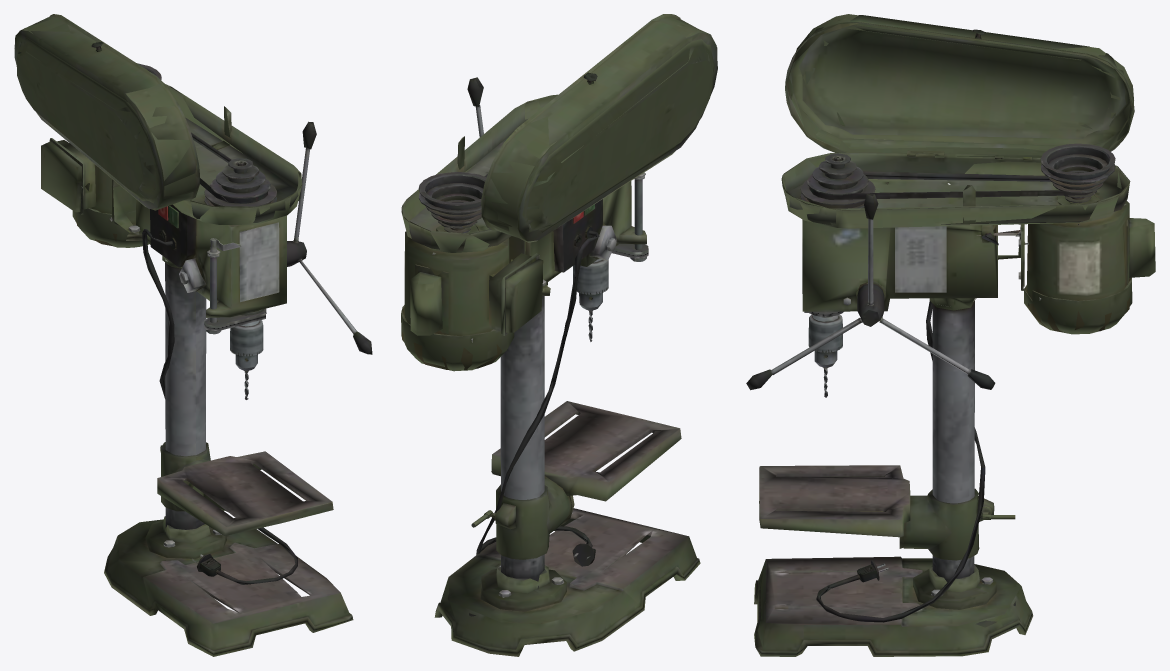
Rendered from drill_press_01.fc34c469.glb.
3 renders of one model, left to right at view 1: azimuth 30°, elevation 25°; view 2: azimuth 150°, elevation 25°; view 3: azimuth 270°, elevation 25°, orthographic. The views are drawn at different scales.
Visible parts, largest first — view 1: drill_press_01, drill_press_01_lid, drill_press_01_plate, drill_press_01_gear_b, drill_press_01_plug, drill_press_01_handle, drill_press_01_bit, drill_press_01_limiter, drill_press_01_belt; view 2: drill_press_01, drill_press_01_lid, drill_press_01_plate, drill_press_01_gear_a, drill_press_01_plug, drill_press_01_bit, drill_press_01_limiter, drill_press_01_handle; view 3: drill_press_01, drill_press_01_lid, drill_press_01_plate, drill_press_01_handle, drill_press_01_gear_a, drill_press_01_belt, drill_press_01_gear_b, drill_press_01_plug, drill_press_01_bit.
Boxes of the visible parts, x1=… form: drill_press_01: x1=41, y1=84, x2=353, y2=656; drill_press_01_lid: x1=14, y1=14, x2=199, y2=210; drill_press_01_plate: x1=157, y1=442, x2=333, y2=535; drill_press_01_gear_b: x1=204, y1=158, x2=276, y2=206; drill_press_01_plug: x1=142, y1=229, x2=297, y2=584; drill_press_01_handle: x1=287, y1=121, x2=372, y2=354; drill_press_01_bit: x1=230, y1=320, x2=263, y2=399; drill_press_01_limiter: x1=204, y1=238, x2=266, y2=334; drill_press_01_belt: x1=191, y1=132, x2=267, y2=203; drill_press_01: x1=401, y1=94, x2=700, y2=656; drill_press_01_lid: x1=481, y1=14, x2=717, y2=242; drill_press_01_plate: x1=491, y1=401, x2=681, y2=559; drill_press_01_gear_a: x1=418, y1=172, x2=486, y2=233; drill_press_01_plug: x1=476, y1=230, x2=599, y2=566; drill_press_01_bit: x1=573, y1=259, x2=608, y2=341; drill_press_01_limiter: x1=612, y1=172, x2=648, y2=261; drill_press_01_handle: x1=467, y1=77, x2=483, y2=137; drill_press_01: x1=754, y1=153, x2=1155, y2=656; drill_press_01_lid: x1=785, y1=14, x2=1134, y2=159; drill_press_01_plate: x1=759, y1=465, x2=994, y2=560; drill_press_01_handle: x1=746, y1=194, x2=995, y2=390; drill_press_01_gear_a: x1=1040, y1=143, x2=1115, y2=203; drill_press_01_belt: x1=809, y1=171, x2=1092, y2=199; drill_press_01_gear_b: x1=800, y1=153, x2=875, y2=208; drill_press_01_plug: x1=816, y1=300, x2=985, y2=622; drill_press_01_bit: x1=808, y1=314, x2=842, y2=397.
Size of the model in its own units: 0.3912 by 1 by 0.6626.
1 material, 1 textured.
